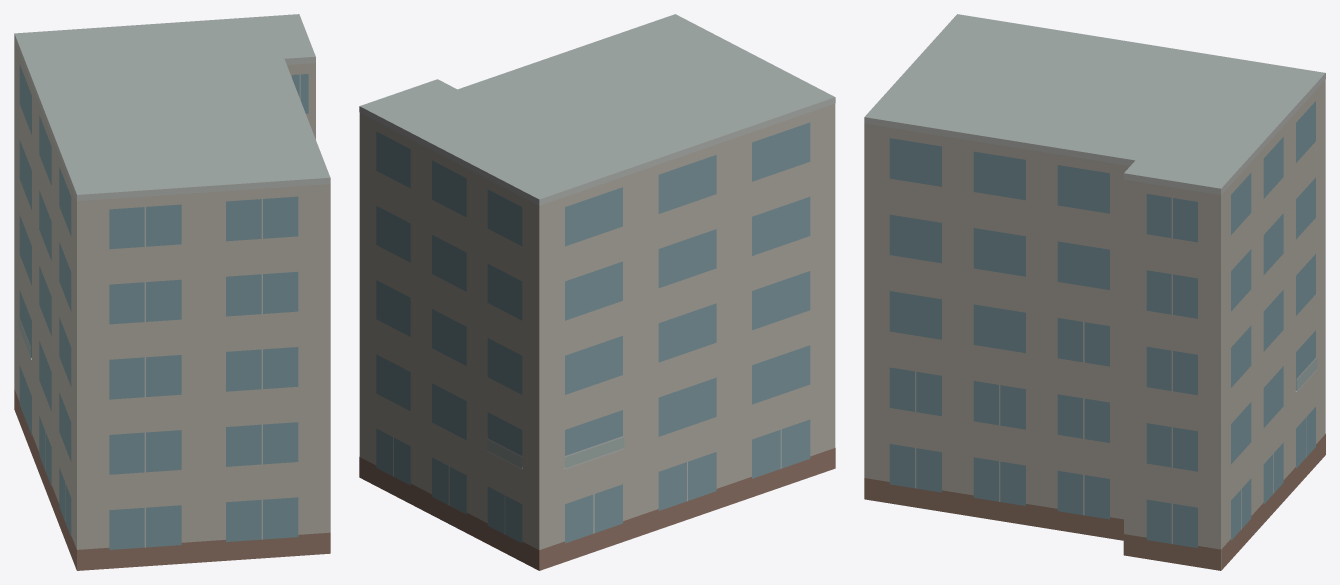
Rendered from survey-upis-32718149.glb.
3 renders of one model, left to right at view 1: azimuth 30°, elevation 25°; view 2: azimuth 150°, elevation 25°; view 3: azimuth 270°, elevation 25°, orthographic. The views are drawn at different scales.
Visible parts, largest first — view 1: survey-upis-32718149.tmp; view 2: survey-upis-32718149.tmp; view 3: survey-upis-32718149.tmp.
Boxes of the visible parts, x1,y1,x2,y2 form: survey-upis-32718149.tmp: [14, 14, 330, 570]; survey-upis-32718149.tmp: [359, 14, 835, 570]; survey-upis-32718149.tmp: [864, 14, 1325, 570].
Bounding box in the file's own units: 14.22 × 14.5 × 15.87.
